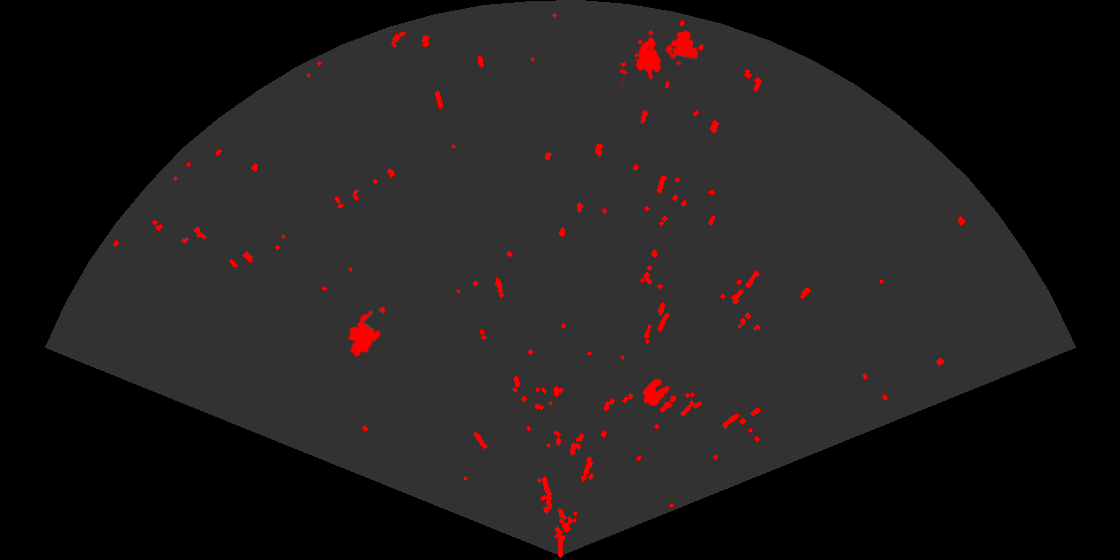AUV: (347, 305, 387, 358)
ball: (641, 377, 678, 414)
cage: (620, 29, 700, 88)
